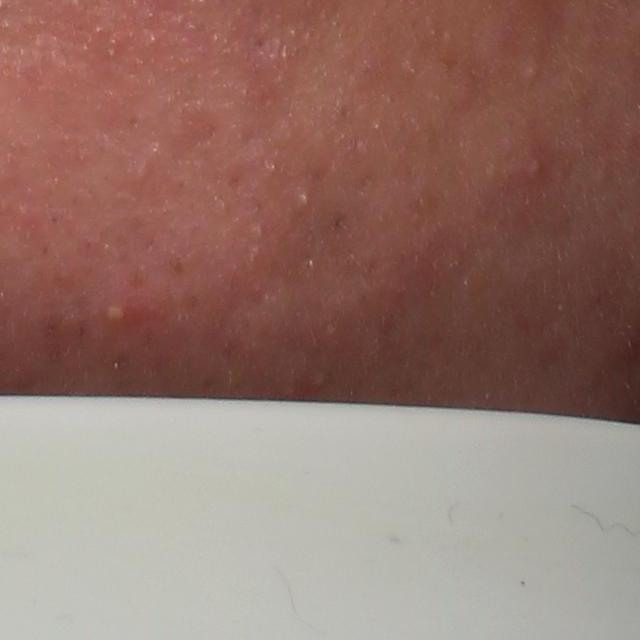comedo: (522, 62, 545, 83), (298, 191, 313, 207)
papule: (515, 154, 546, 188)
pustule: (99, 295, 138, 330)
